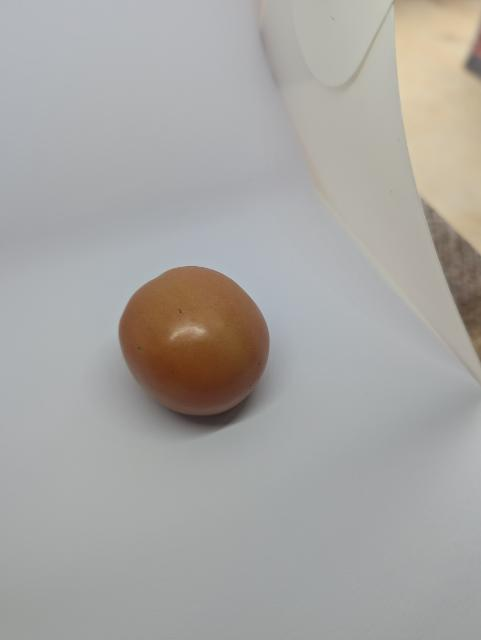turning: (118, 264, 277, 428)
